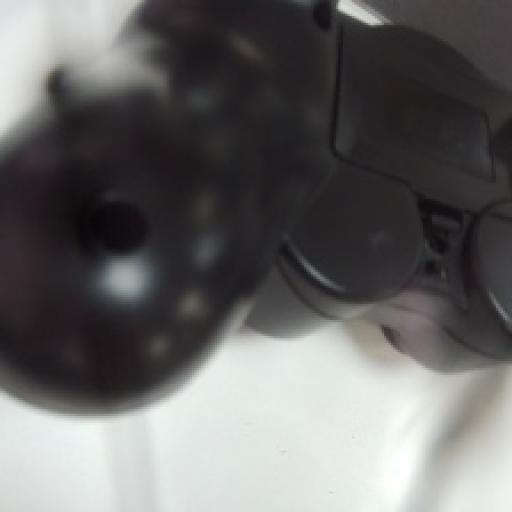game pad: (0, 0, 510, 409)
